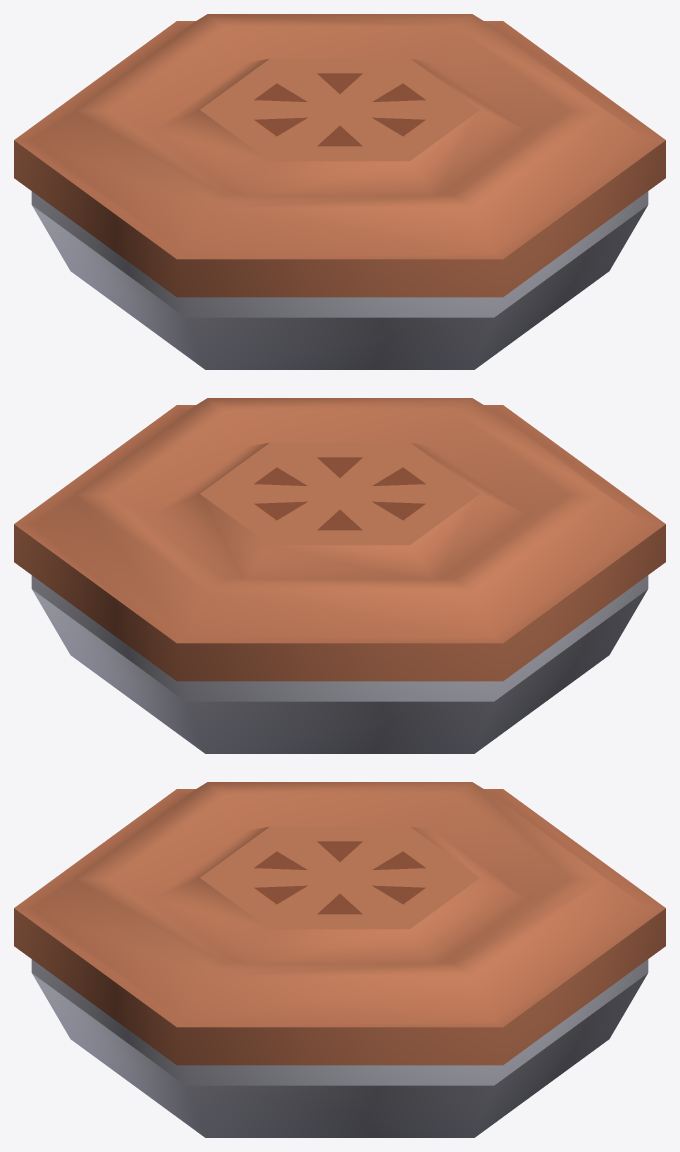
File: mincemeat-pie.glb
3 renders of one model, top to bottom at view 1: azimuth 30°, elevation 25°; view 2: azimuth 150°, elevation 25°; view 3: azimuth 270°, elevation 25°, orthographic.
Parts seen in each view (by area): view 1: mincemeat-pie; view 2: mincemeat-pie; view 3: mincemeat-pie.
Part boxes in pixels (x1,y1,x2,y2): mincemeat-pie: (14, 14, 665, 369); mincemeat-pie: (14, 398, 665, 753); mincemeat-pie: (14, 782, 665, 1137).
Bounding box in the file's own units: 0.5309 × 0.1673 × 0.6131.
